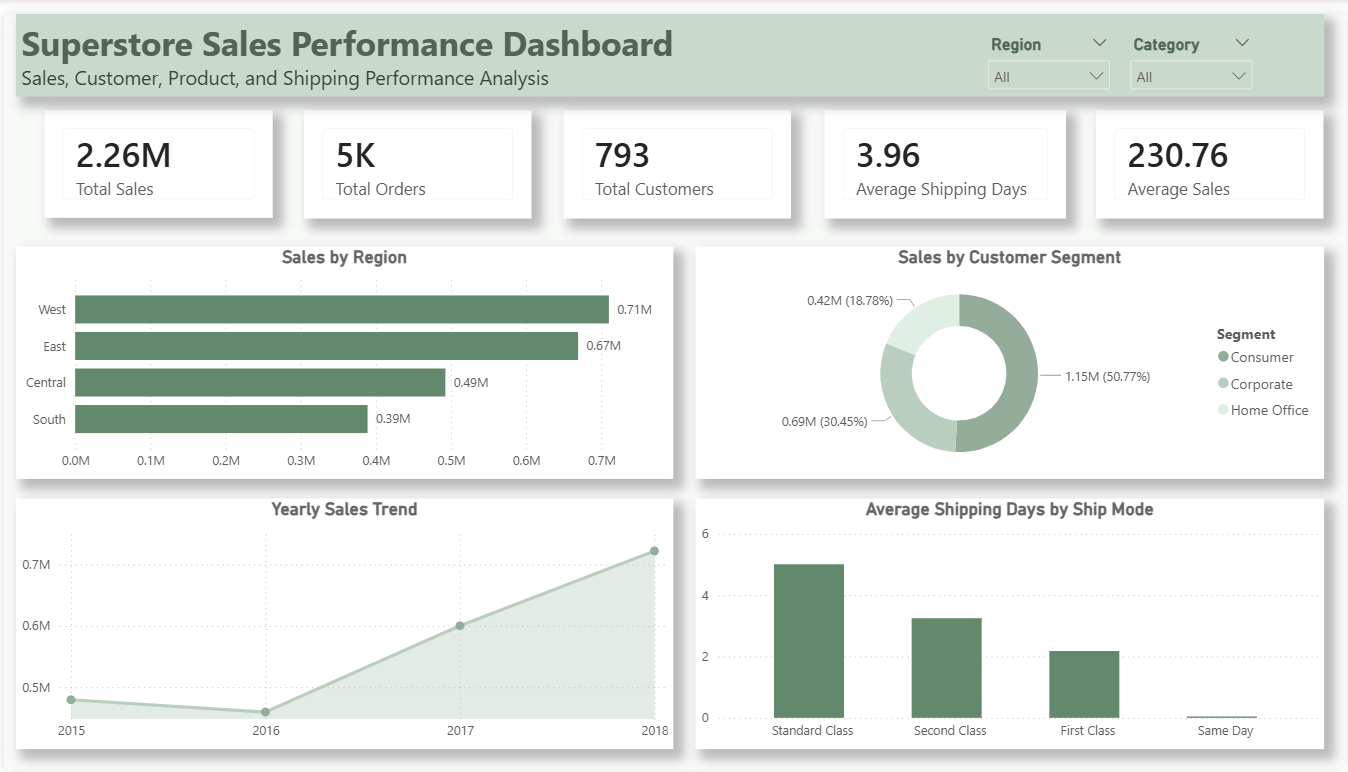

The page's visual inventory and layout, read from the dashboard file:
{"tool":"powerbi","page":{"name":"Executive Summary","canvas":[1280,720],"ordinal":0},"visuals":[{"type":"cardVisual","fields":{"Data":["Superstore_Sales_Cleaned.Total Sales"]},"box":[38.6,91.4,217.1,102.9],"z":0},{"type":"cardVisual","fields":{"Data":["Superstore_Sales_Cleaned.Total Customers"]},"box":[533.3,91.7,216.7,103.3],"z":1000},{"type":"cardVisual","fields":{"Data":["Superstore_Sales_Cleaned.Average Sales"]},"box":[1040,91.7,216.7,103.3],"z":2000},{"type":"cardVisual","fields":{"Data":["Superstore_Sales_Cleaned.Total Orders"]},"box":[285,91.7,216.7,103.3],"z":3000},{"type":"cardVisual","fields":{"Data":["Superstore_Sales_Cleaned.Average Shipping Days"]},"box":[781.7,91.7,230,103.3],"z":4000},{"type":"textbox","box":[11.4,0,1245.7,78.6],"z":5000},{"type":"clusteredBarChart","title":"Sales by Region","fields":{"Category":["Superstore_Sales_Cleaned.Region"],"Y":["Superstore_Sales_Cleaned.Total Sales"]},"box":[11.4,221.4,625.7,221.4],"z":6000},{"type":"lineChart","title":"Yearly Sales Trend","fields":{"Category":["Superstore_Sales_Cleaned.Order_Year"],"Y":["Superstore_Sales_Cleaned.Total Sales"]},"box":[11.4,461.4,625.7,238.6],"z":7000},{"type":"donutChart","title":"Sales by Customer Segment","fields":{"Category":["Superstore_Sales_Cleaned.Segment"],"Y":["Superstore_Sales_Cleaned.Total Sales"]},"box":[658.6,221.4,598.6,221.4],"z":8000},{"type":"clusteredColumnChart","title":"Average Shipping Days by Ship Mode","fields":{"Category":["Superstore_Sales_Cleaned.Ship_Mode"],"Y":["Superstore_Sales_Cleaned.Average Shipping Days"]},"box":[658.6,461.4,598.6,238.6],"z":9000},{"type":"slicer","fields":{"Values":["Superstore_Sales_Cleaned.Region"]},"box":[927.1,14.3,135.7,64.3],"z":10000},{"type":"slicer","fields":{"Values":["Superstore_Sales_Cleaned.Category"]},"box":[1062.9,14.3,135.7,64.3],"z":11000}]}

Visuals, with their boxes in screenshot pixels (x1, y1, x2, y2), scaled from the page's 1280x720 canvas onto the 1348x772 screenshot:
cardVisual - Superstore_Sales_Cleaned.Total Sales: bbox=(41, 98, 269, 208)
cardVisual - Superstore_Sales_Cleaned.Total Customers: bbox=(562, 98, 790, 209)
cardVisual - Superstore_Sales_Cleaned.Average Sales: bbox=(1095, 98, 1323, 209)
cardVisual - Superstore_Sales_Cleaned.Total Orders: bbox=(300, 98, 528, 209)
cardVisual - Superstore_Sales_Cleaned.Average Shipping Days: bbox=(823, 98, 1065, 209)
textbox: bbox=(12, 0, 1324, 84)
"Sales by Region" clusteredBarChart: bbox=(12, 237, 671, 475)
"Yearly Sales Trend" lineChart: bbox=(12, 495, 671, 751)
"Sales by Customer Segment" donutChart: bbox=(694, 237, 1324, 475)
"Average Shipping Days by Ship Mode" clusteredColumnChart: bbox=(694, 495, 1324, 751)
slicer - Superstore_Sales_Cleaned.Region: bbox=(976, 15, 1119, 84)
slicer - Superstore_Sales_Cleaned.Category: bbox=(1119, 15, 1262, 84)
